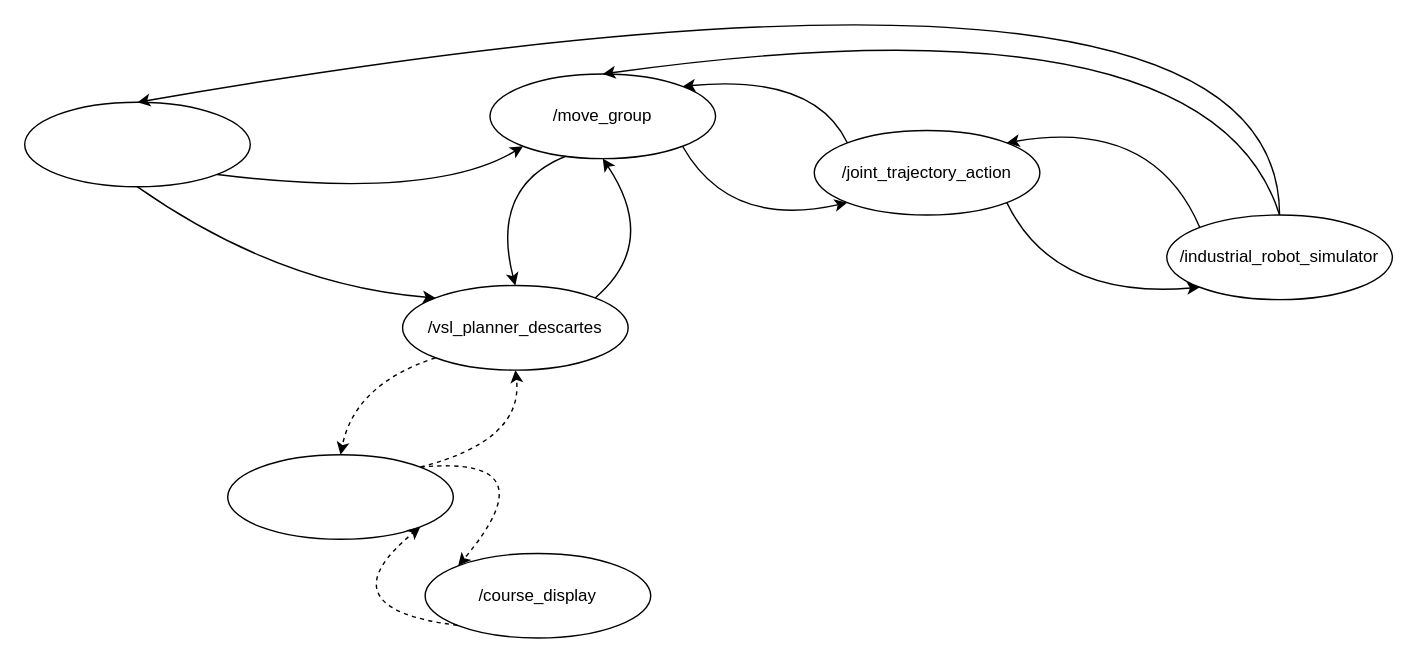
This 1417x663 diagram has some shape labels left out. Each missing label, with the centre of its shape:
/pose_builder: point (339, 496)
/robot_state_publisher: point (136, 144)
